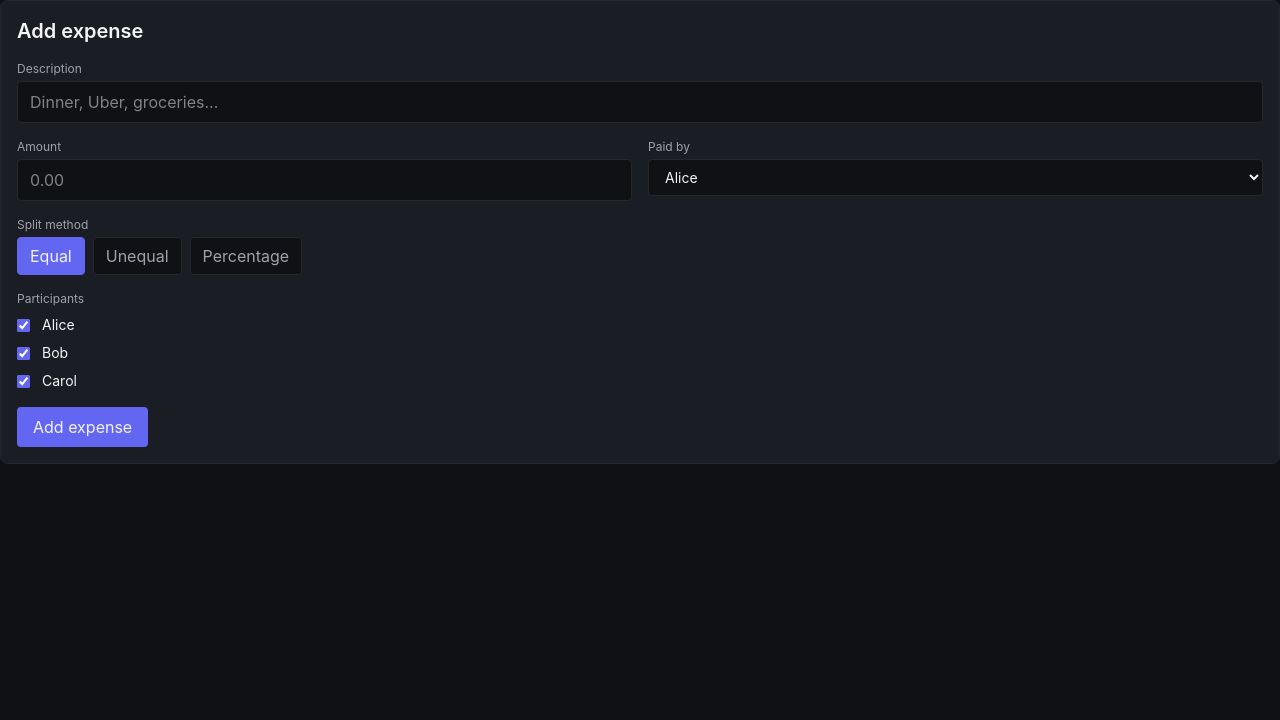
Test: AddExpenseForm › rejects a percentage split that doesn't sum to 100
Type "Dinner" into the field labelled "Description" at coordinates (640, 102), box top-left (17, 81), bottom-right (1263, 123)
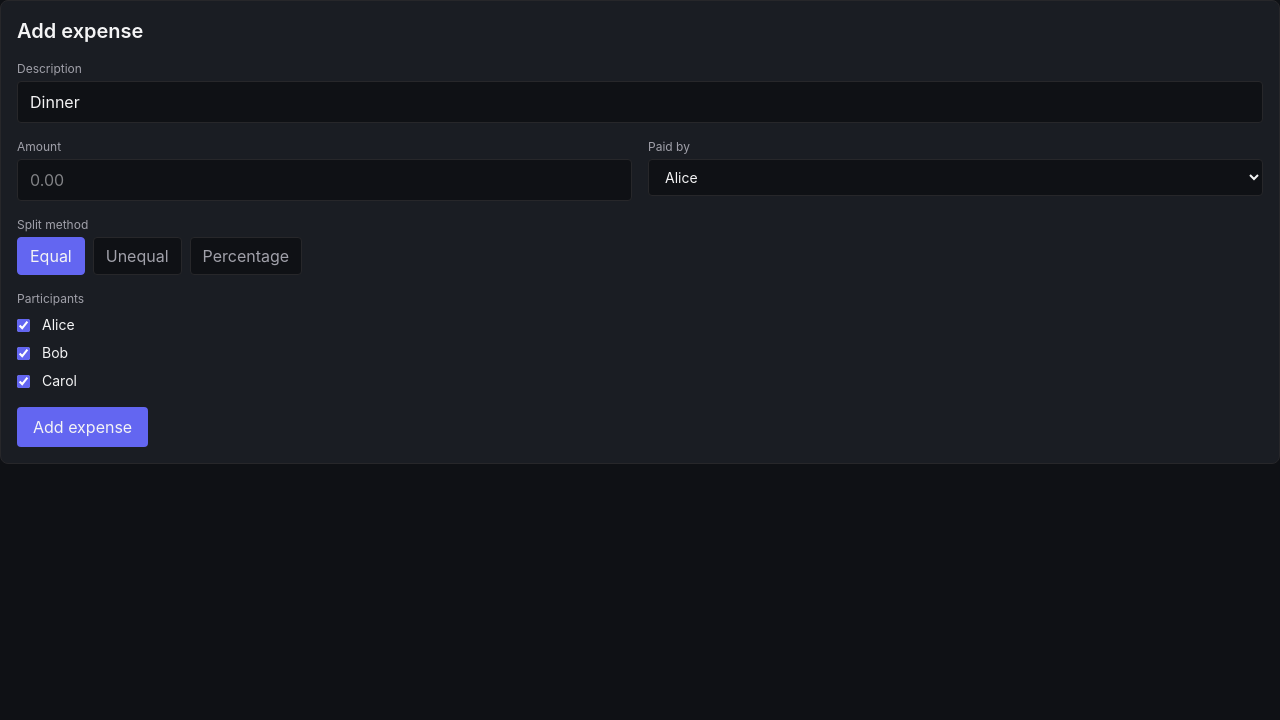
Type "200" into the number field labelled "Amount" at coordinates (324, 180), box top-left (17, 159), bottom-right (632, 201)
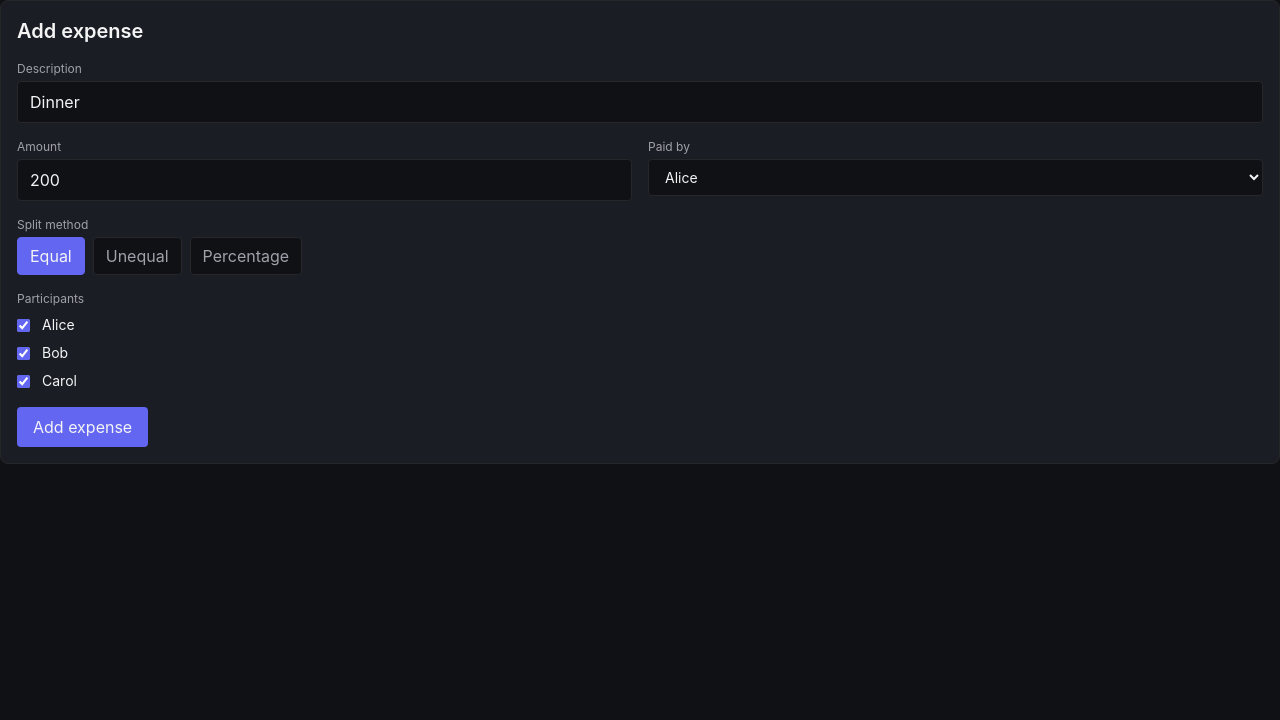
Click the button "Percentage" at coordinates (246, 256), box top-left (190, 237), bottom-right (302, 275)
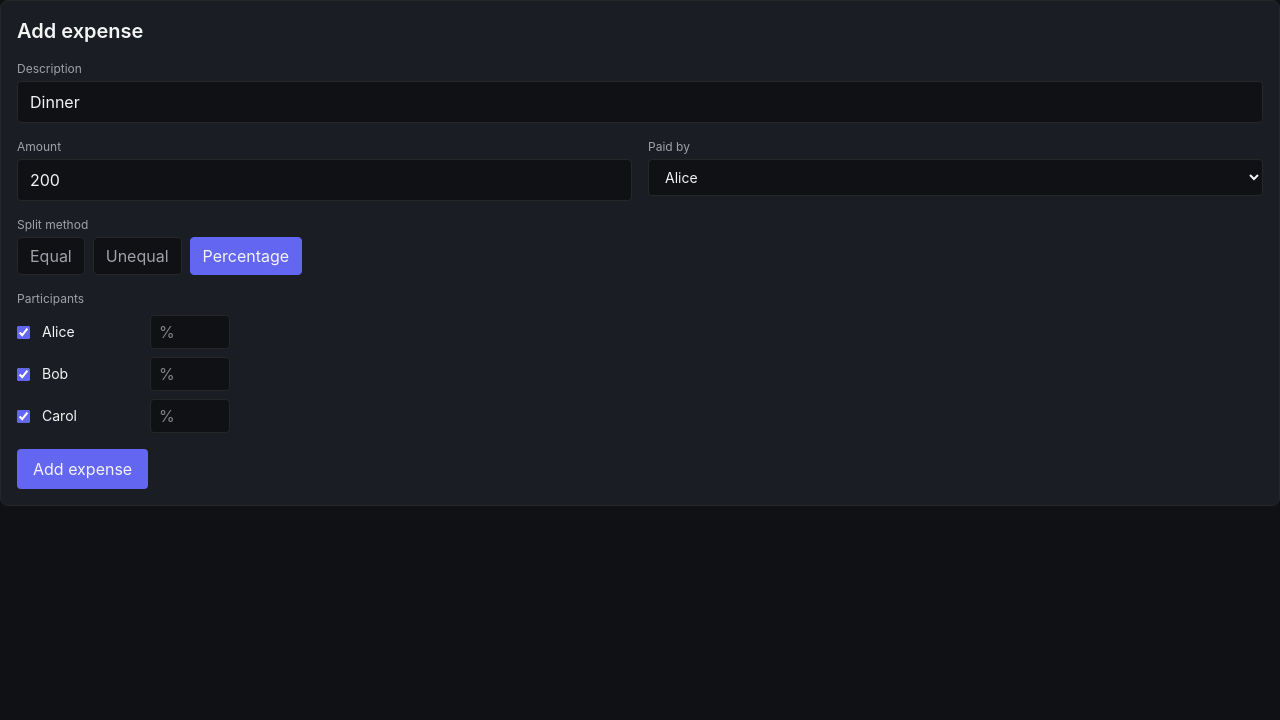
Type "50" into the number field with placeholder "%" next to "Alice" at coordinates (190, 332), box top-left (150, 315), bottom-right (230, 349)
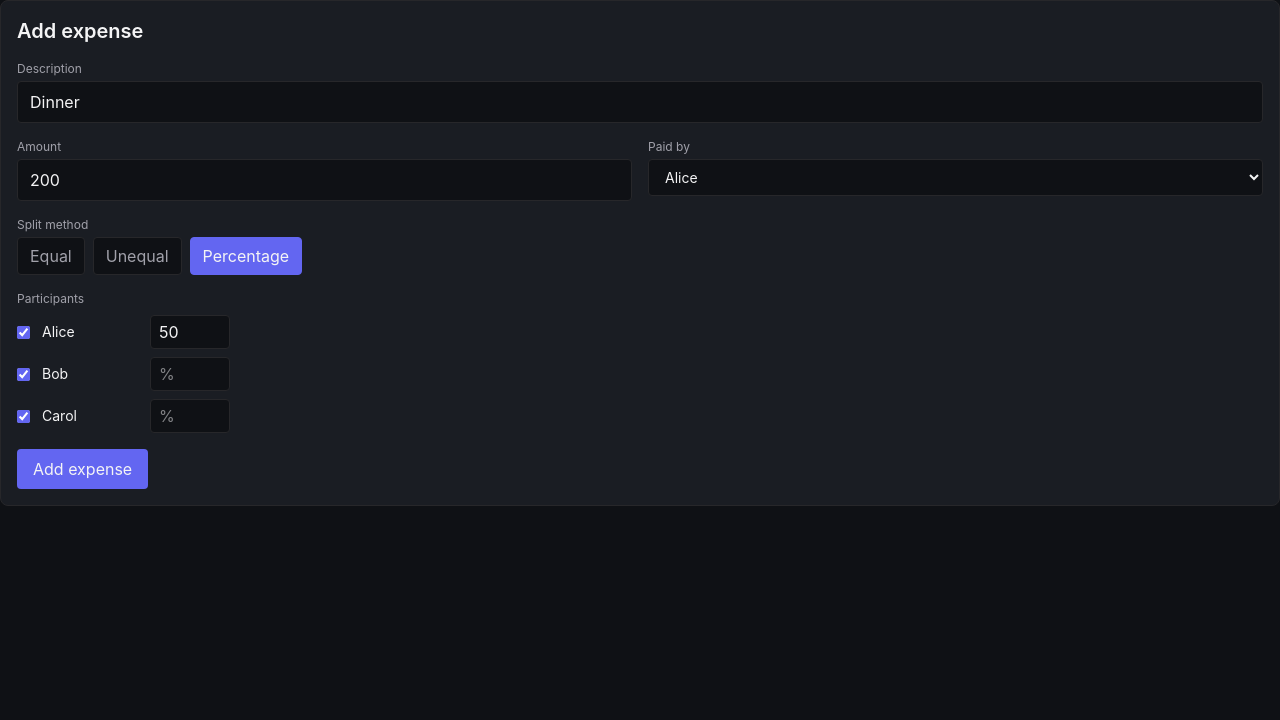
Click the button "Add expense" at coordinates (83, 469), box top-left (17, 449), bottom-right (148, 489)
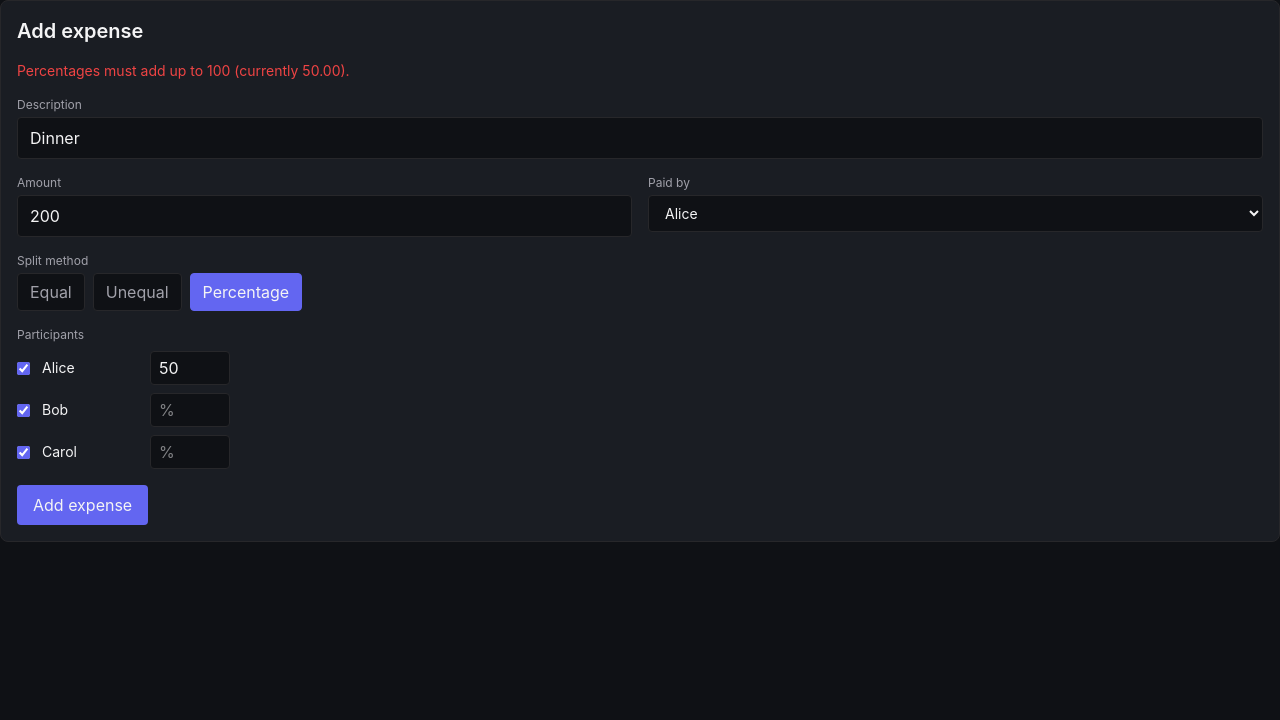
Expected: the text "Percentages must add up to 100 (currently 50.00)." is shown, top-left (17, 62), bottom-right (350, 79)
